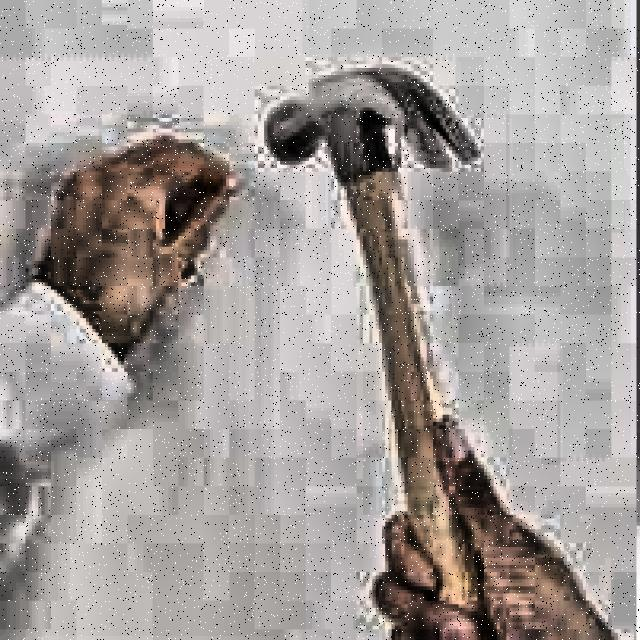hammer: (263, 70, 525, 636)
